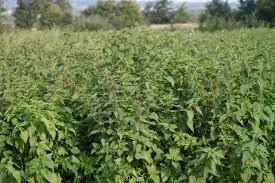field: (0, 29, 274, 182)
